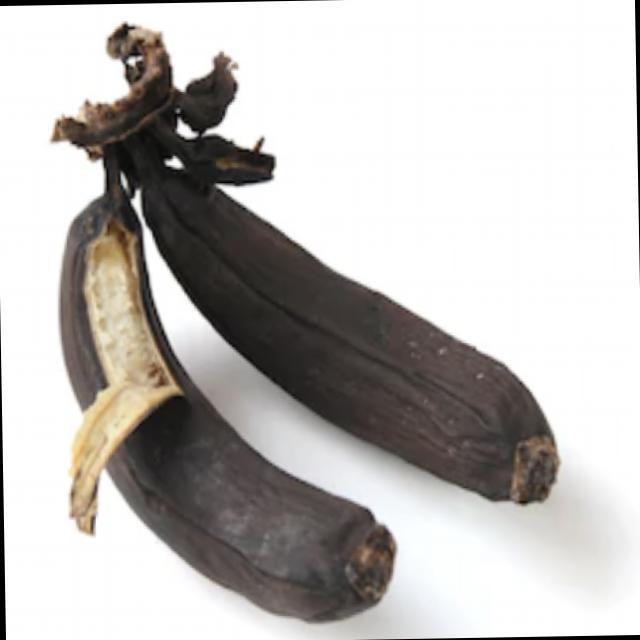rotten-banana: (128, 99, 564, 512), (56, 150, 380, 609)
